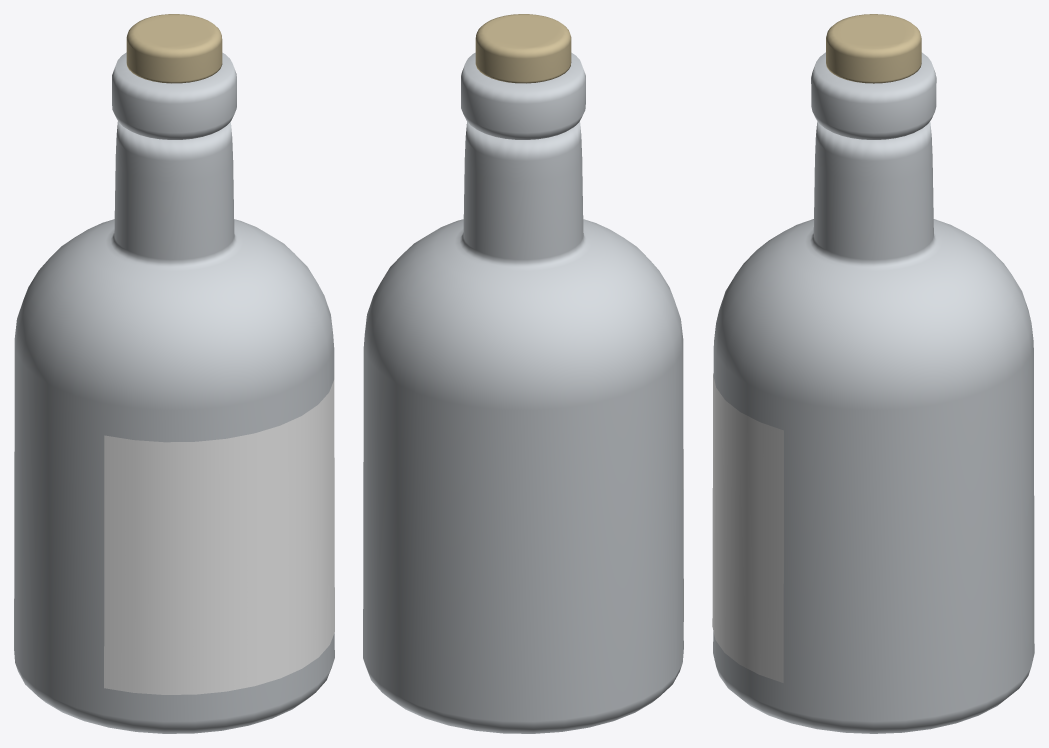
Rendered from whiskigin.glb.
The picture shows the model from 3 angles, left to right: view 1: azimuth 30°, elevation 25°; view 2: azimuth 150°, elevation 25°; view 3: azimuth 270°, elevation 25°; orthographic projection.
Visible parts, largest first — view 1: butelka, etykieta, korek; view 2: butelka, korek; view 3: butelka, etykieta, korek.
Part boxes in pixels (box(x1,y1,x2,y2)): butelka: box(14, 52, 334, 733); etykieta: box(104, 380, 334, 694); korek: box(126, 14, 222, 83); butelka: box(363, 52, 683, 733); korek: box(475, 14, 571, 83); butelka: box(713, 52, 1034, 733); etykieta: box(712, 373, 783, 682); korek: box(826, 14, 921, 83).
Bounding box in the file's own units: 0.8586 × 1.89 × 0.8604.
